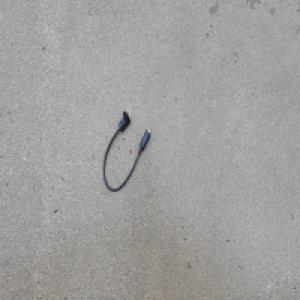Wire: (101, 108, 151, 193)
